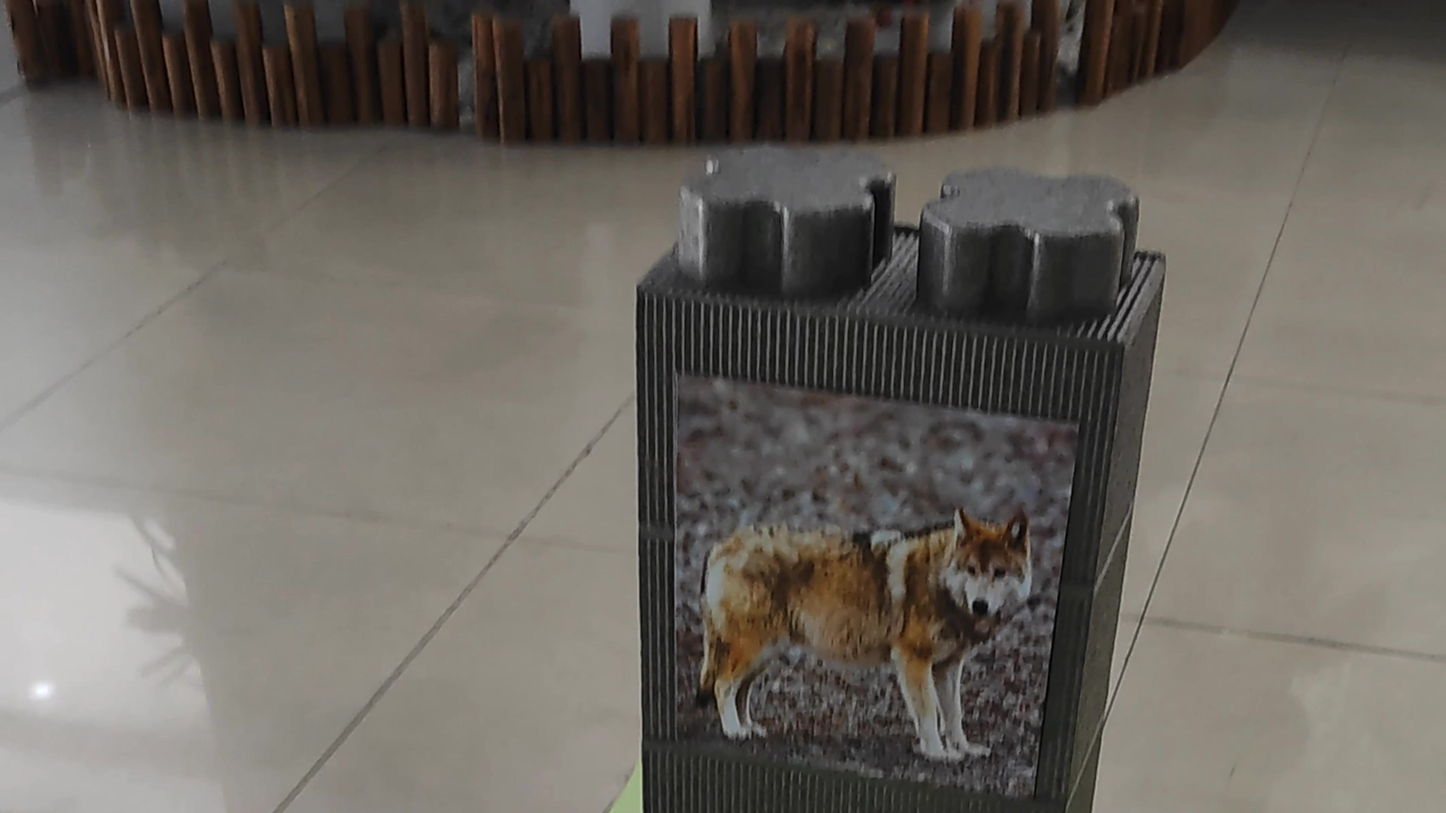wolf: (671, 375, 1035, 781)
